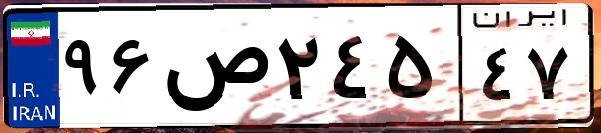2: (270, 28, 330, 110)
4: (330, 28, 385, 110), (475, 38, 525, 113)
5: (385, 28, 445, 110)
6: (110, 28, 158, 98)
7: (525, 38, 570, 115)
9: (57, 26, 110, 100)
ص: (158, 20, 270, 120)
